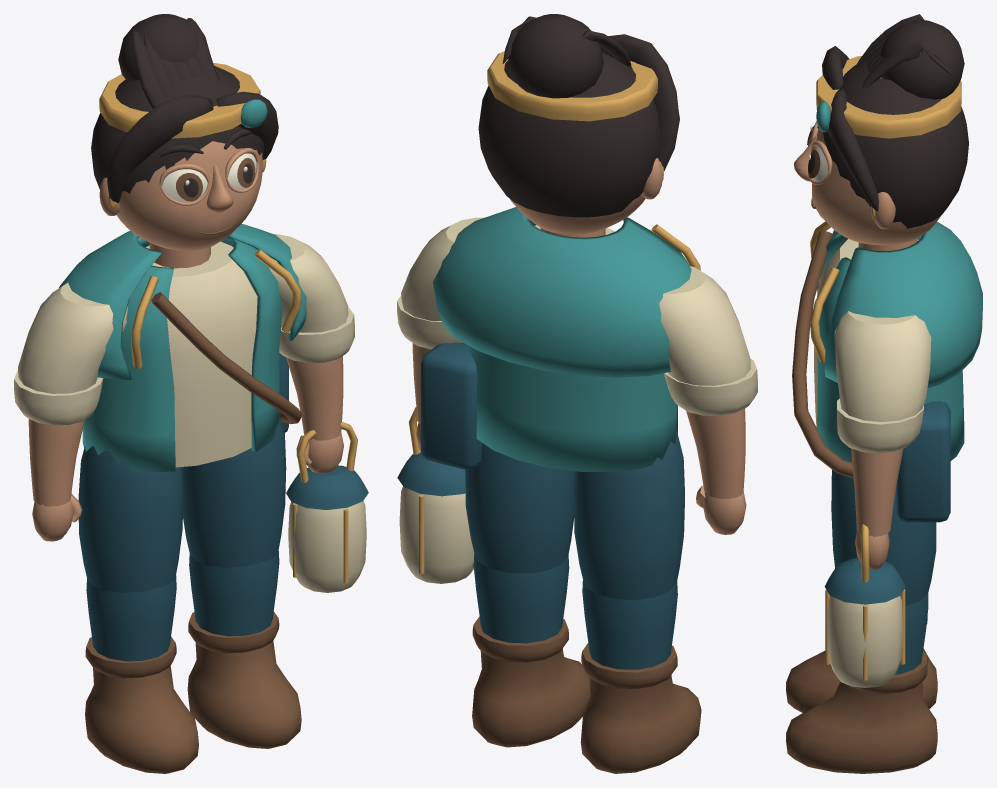
Rendered from world02-tidekeeper-v1.glb.
3 views of the same model, side by side, from view 1: azimuth 30°, elevation 25°; view 2: azimuth 150°, elevation 25°; view 3: azimuth 270°, elevation 25° (orthographic). The views are drawn at different scales.
Visible parts, largest first — view 1: hero-upper__MAT_teal, head-joint__MAT_hair, hero-upper__MAT_linen, left-hip__MAT_teal_dark, right-hip__MAT_teal_dark, left-knee__MAT_leather, right-knee__MAT_leather, head-joint__MAT_skin, left-shoulder__MAT_linen, right-shoulder__MAT_linen, left-knee__MAT_teal_dark, right-knee__MAT_teal_dark (+11 smaller); view 2: hero-upper__MAT_teal, head-joint__MAT_hair, left-hip__MAT_teal_dark, right-hip__MAT_teal_dark, left-knee__MAT_leather, right-knee__MAT_leather, left-shoulder__MAT_linen, hero-upper__MAT_teal_dark, left-knee__MAT_teal_dark, right-knee__MAT_teal_dark, right-elbow__MAT_linen, left-elbow__MAT_skin (+6 smaller); view 3: head-joint__MAT_hair, hero-upper__MAT_teal, right-shoulder__MAT_linen, right-knee__MAT_leather, right-elbow__MAT_linen, head-joint__MAT_skin, right-hip__MAT_teal_dark, hero-upper__MAT_teal_dark, right-elbow__MAT_skin, hero-upper__MAT_leather, head-joint__MAT_ochre, left-knee__MAT_leather (+6 smaller).
Boxes of the visible parts, left/top/right/bottom form: hero-upper__MAT_teal: left=59, top=223, right=306, bottom=472; head-joint__MAT_hair: left=91, top=14, right=278, bottom=202; hero-upper__MAT_linen: left=146, top=241, right=257, bottom=467; left-hip__MAT_teal_dark: left=78, top=446, right=183, bottom=593; right-hip__MAT_teal_dark: left=182, top=413, right=286, bottom=568; left-knee__MAT_leather: left=85, top=636, right=198, bottom=773; right-knee__MAT_leather: left=187, top=611, right=301, bottom=748; head-joint__MAT_skin: left=99, top=141, right=262, bottom=268; left-shoulder__MAT_linen: left=14, top=283, right=127, bottom=425; right-shoulder__MAT_linen: left=269, top=234, right=354, bottom=362; left-knee__MAT_teal_dark: left=86, top=575, right=176, bottom=661; right-knee__MAT_teal_dark: left=189, top=550, right=279, bottom=636; hero-upper__MAT_teal: left=432, top=207, right=691, bottom=472; head-joint__MAT_hair: left=478, top=14, right=679, bottom=217; left-hip__MAT_teal_dark: left=574, top=431, right=684, bottom=599; right-hip__MAT_teal_dark: left=465, top=443, right=575, bottom=573; left-knee__MAT_leather: left=580, top=643, right=701, bottom=773; right-knee__MAT_leather: left=472, top=616, right=590, bottom=747; left-shoulder__MAT_linen: left=659, top=266, right=757, bottom=415; hero-upper__MAT_teal_dark: left=421, top=342, right=482, bottom=469; left-knee__MAT_teal_dark: left=582, top=580, right=677, bottom=669; right-knee__MAT_teal_dark: left=473, top=553, right=569, bottom=643; right-elbow__MAT_linen: left=399, top=486, right=474, bottom=583; left-elbow__MAT_skin: left=686, top=408, right=746, bottom=534; head-joint__MAT_hair: left=807, top=14, right=968, bottom=228; hero-upper__MAT_teal: left=817, top=221, right=982, bottom=462; right-shoulder__MAT_linen: left=834, top=311, right=931, bottom=453; right-knee__MAT_leather: left=786, top=651, right=937, bottom=773; right-elbow__MAT_linen: left=827, top=596, right=902, bottom=687; head-joint__MAT_skin: left=794, top=77, right=940, bottom=250; right-hip__MAT_teal_dark: left=831, top=470, right=936, bottom=606; hero-upper__MAT_teal_dark: left=896, top=401, right=950, bottom=522; right-elbow__MAT_skin: left=851, top=448, right=903, bottom=569; hero-upper__MAT_leather: left=792, top=230, right=853, bottom=478; head-joint__MAT_ochre: left=816, top=56, right=961, bottom=219; left-knee__MAT_leather: left=786, top=616, right=937, bottom=712.
Size of the model in its own units: 1.06 by 2.1 by 0.5287.
